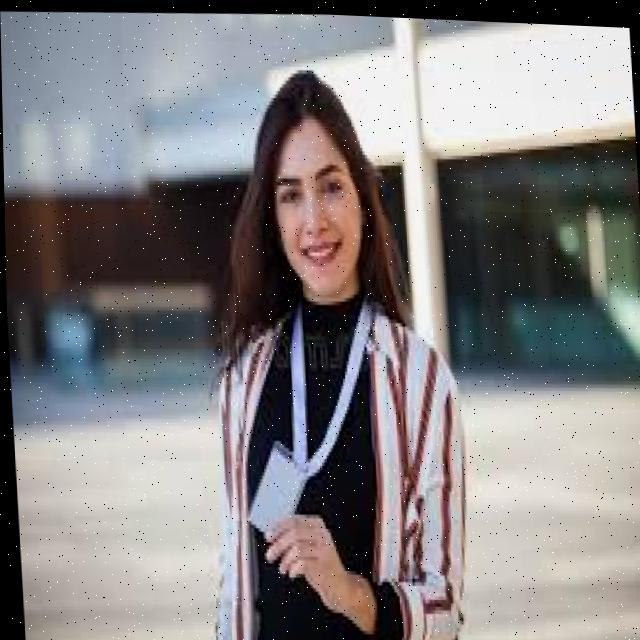id_card: (223, 304, 379, 536)
